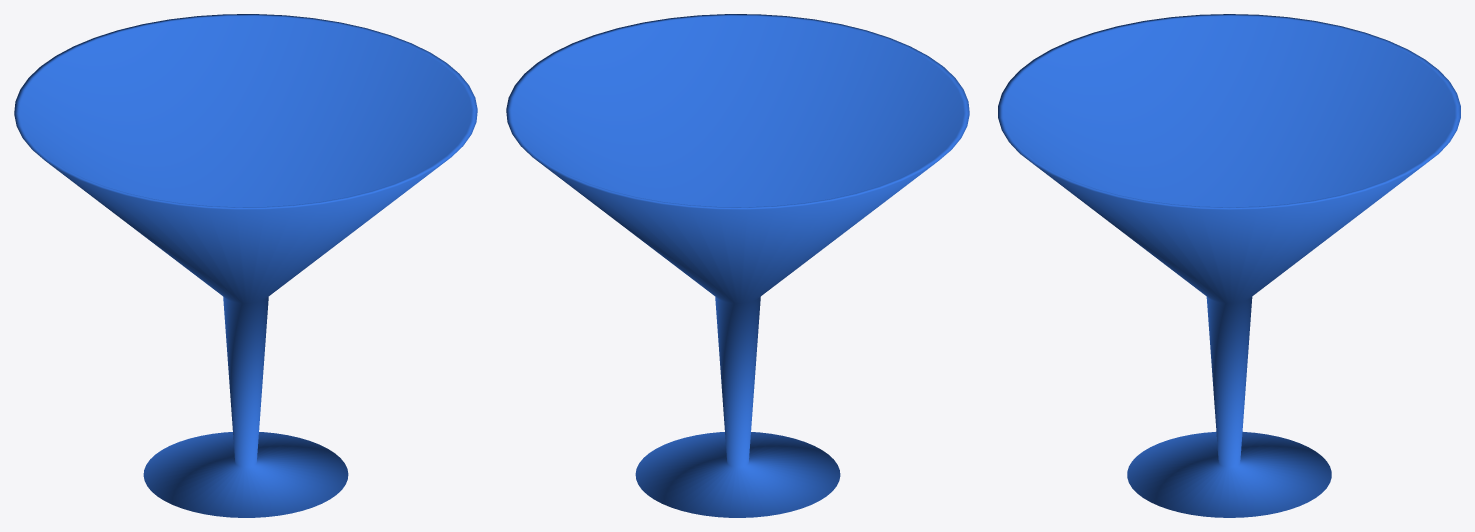
The model's file is Collection_6.fbx.
3 views of the same model, side by side, from view 1: azimuth 30°, elevation 25°; view 2: azimuth 150°, elevation 25°; view 3: azimuth 270°, elevation 25° (orthographic).
Visible parts, largest first — view 1: KitchenGlasses.006; view 2: KitchenGlasses.006; view 3: KitchenGlasses.006.
Part boxes in pixels (x1=…): KitchenGlasses.006: x1=14, y1=14, x2=477, y2=517; KitchenGlasses.006: x1=506, y1=14, x2=969, y2=517; KitchenGlasses.006: x1=998, y1=14, x2=1460, y2=517.
Bounding box in the file's own units: 0.1913 × 0.1652 × 0.1909.
